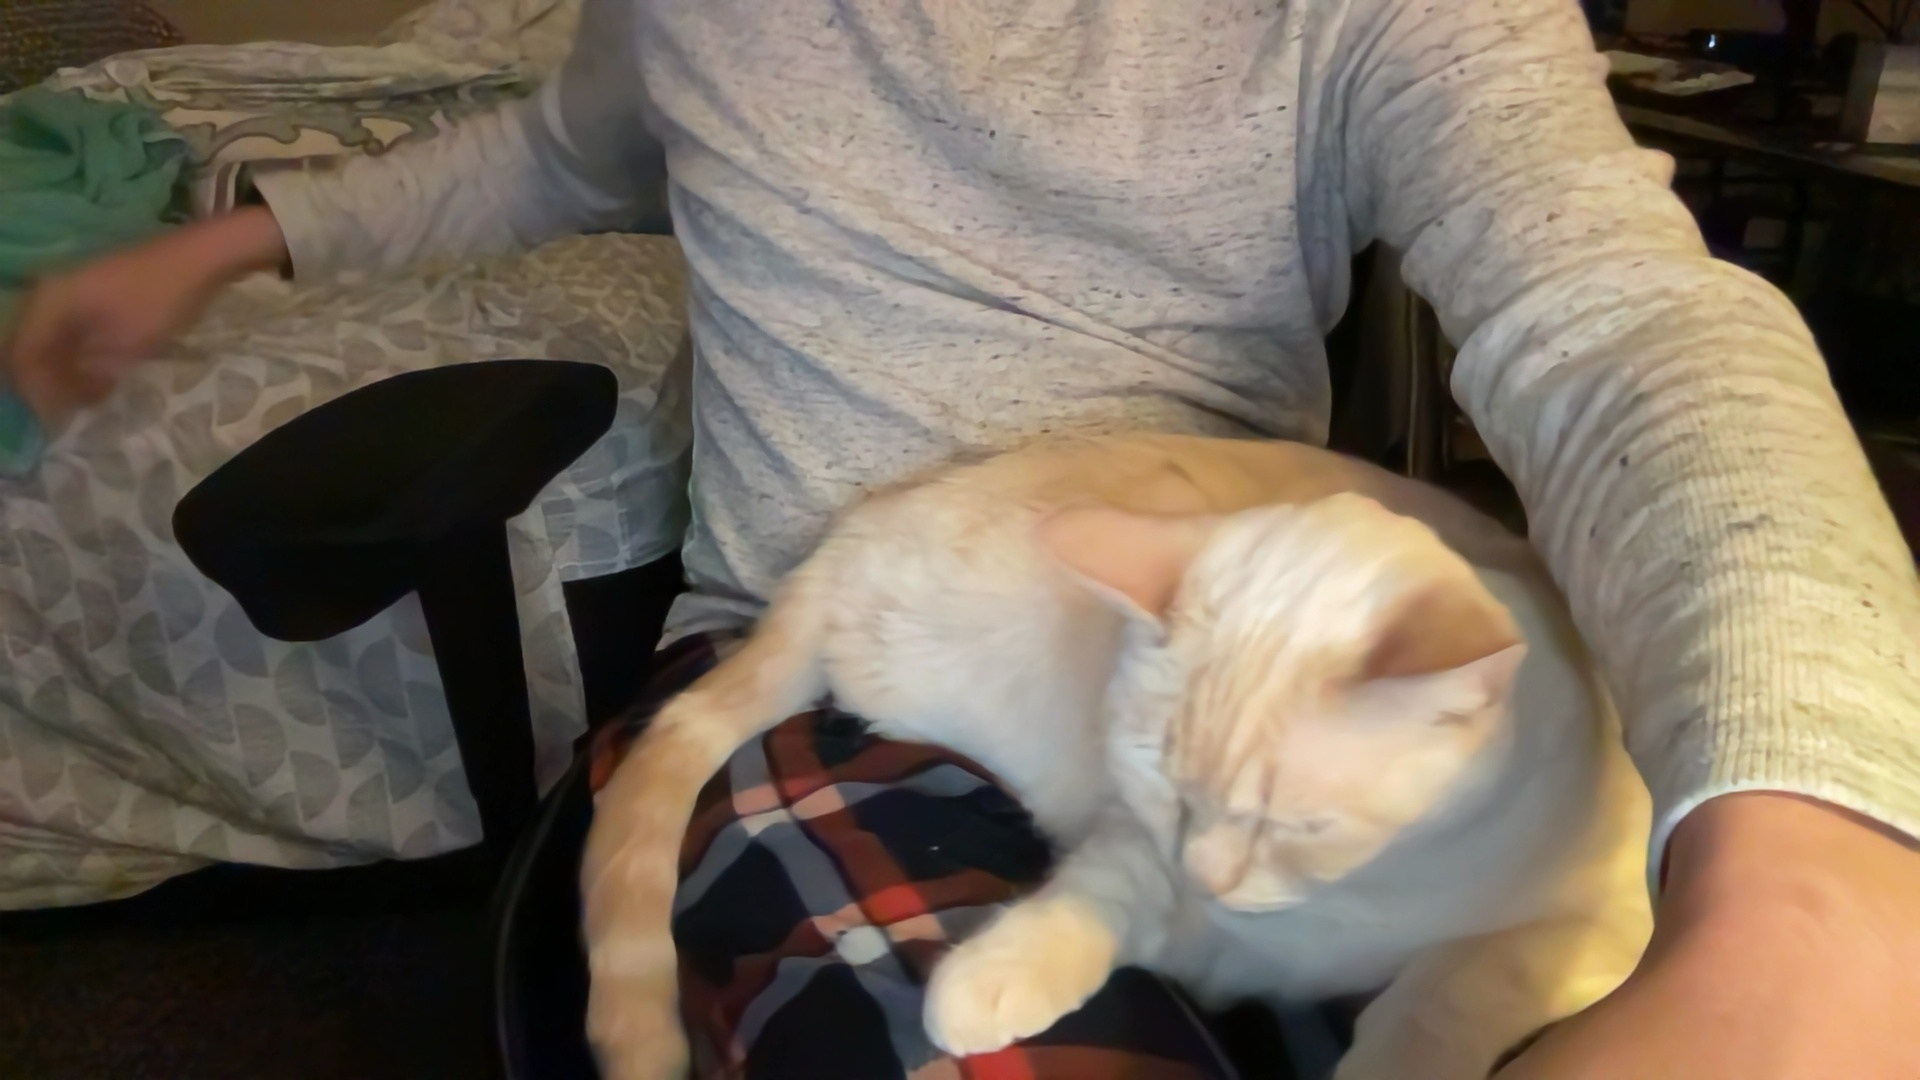cat: (560, 375, 1679, 1080)
